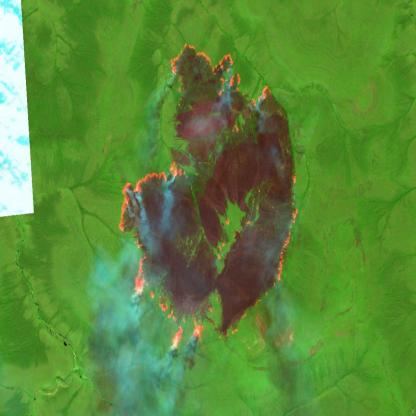fire: (115, 42, 301, 354)
